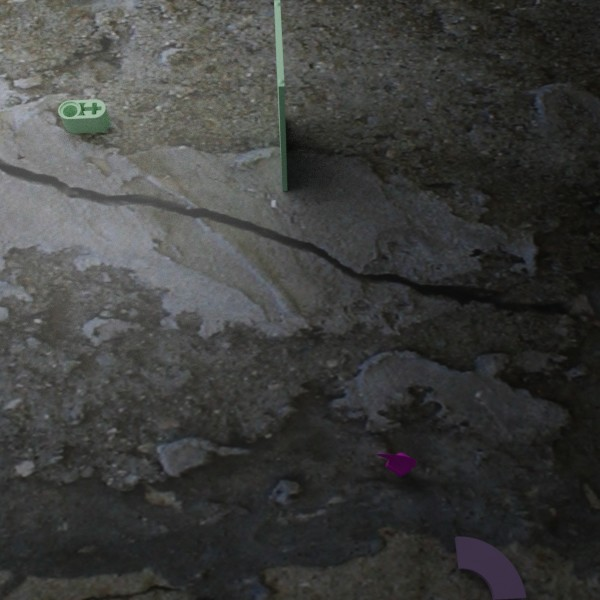lego: (454, 536, 526, 600), (274, 0, 287, 191), (58, 99, 110, 133), (376, 452, 416, 476)
